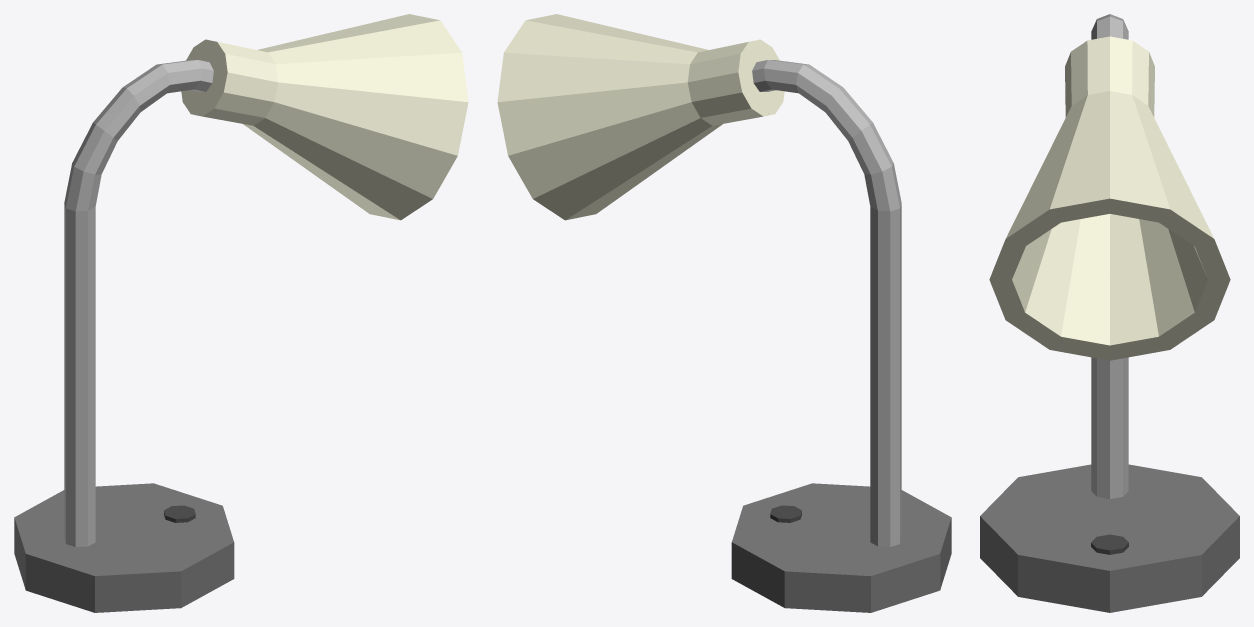
File: Lamp.fbx
3 views of the same model, side by side, from view 1: azimuth 30°, elevation 25°; view 2: azimuth 150°, elevation 25°; view 3: azimuth 270°, elevation 25° (orthographic). The views are drawn at different scales.
Visible parts, largest first — view 1: Lamp; view 2: Lamp; view 3: Lamp.
Boxes of the visible parts, x1=… form: Lamp: x1=14, y1=14, x2=468, y2=612; Lamp: x1=497, y1=14, x2=951, y2=612; Lamp: x1=980, y1=14, x2=1239, y2=612.
Size of the model in its own units: 29.47 by 34.09 by 14.
